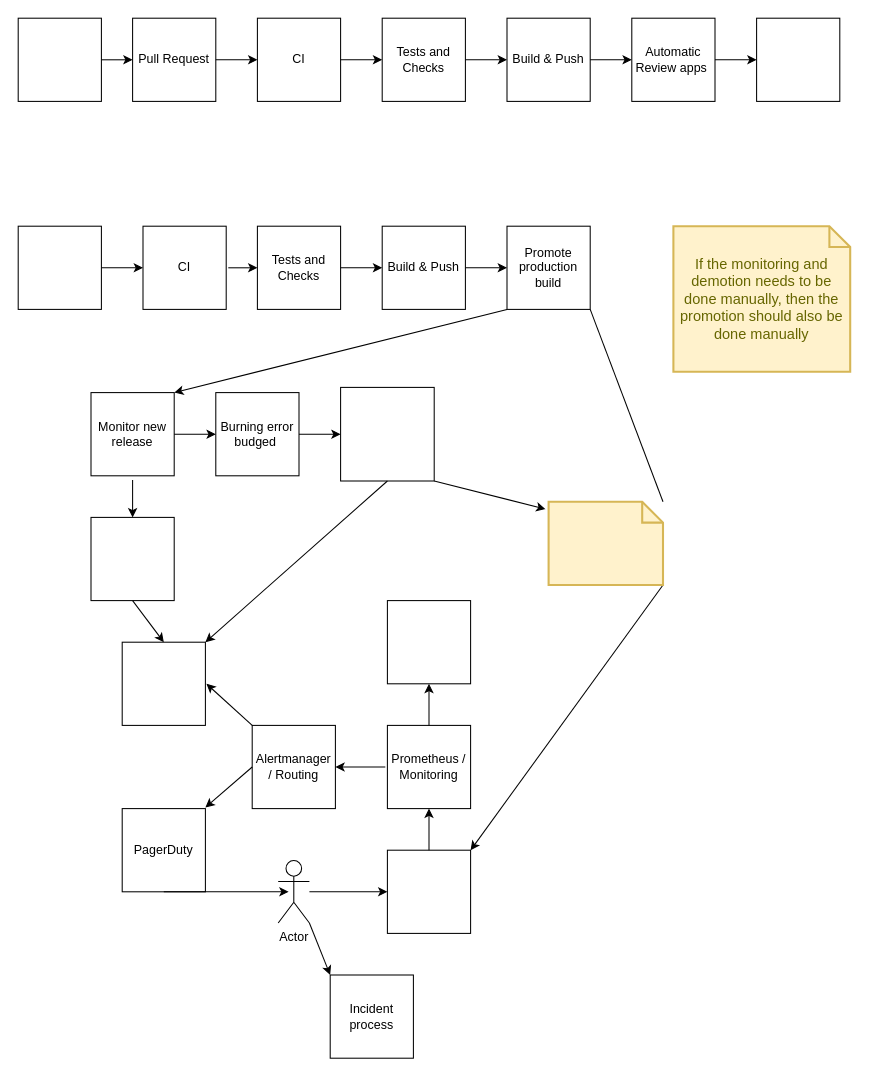
Image size: 869x1076. Some labels were removed from this diagram. The centre of each missing label's shape, as x and y in pixels:
"Annotate releases in Grafana" goes at point 605,543.
"Application" goes at point 428,642.
"commit" goes at point 59,59.
"commit to main" goes at point 59,267.
"Demote/Revert" goes at point 387,433.
"Grafana / Dashoard" goes at point 428,891.
"Mege to main" goes at point 798,59.
"Ok" goes at point 132,558.
"Slack" goes at point 163,683.
